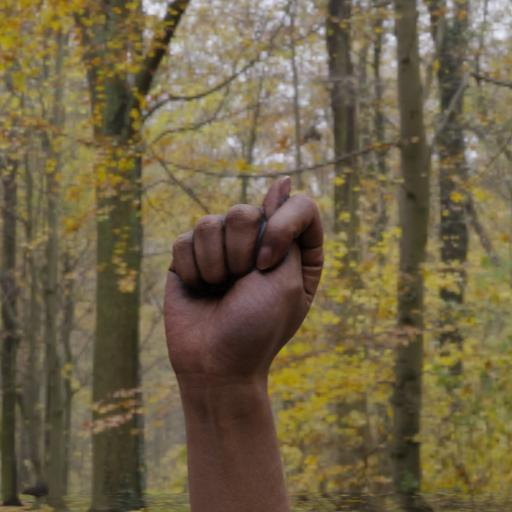T: (149, 167, 334, 405)
